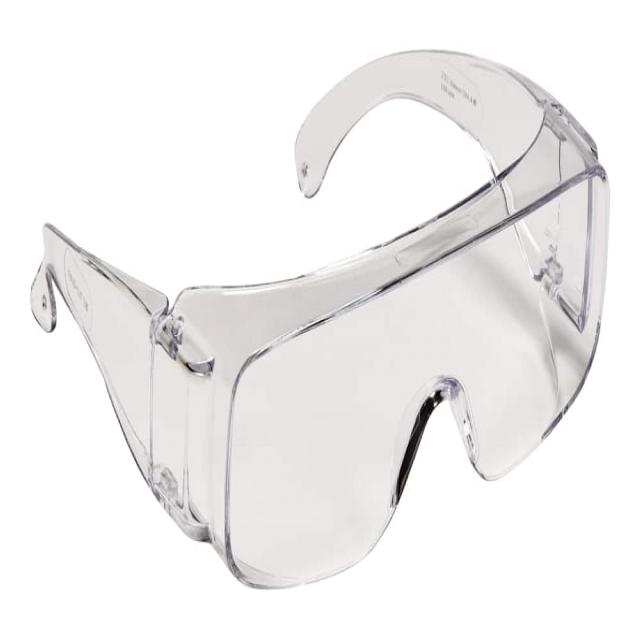Protective Glasses: (3, 12, 632, 623)
